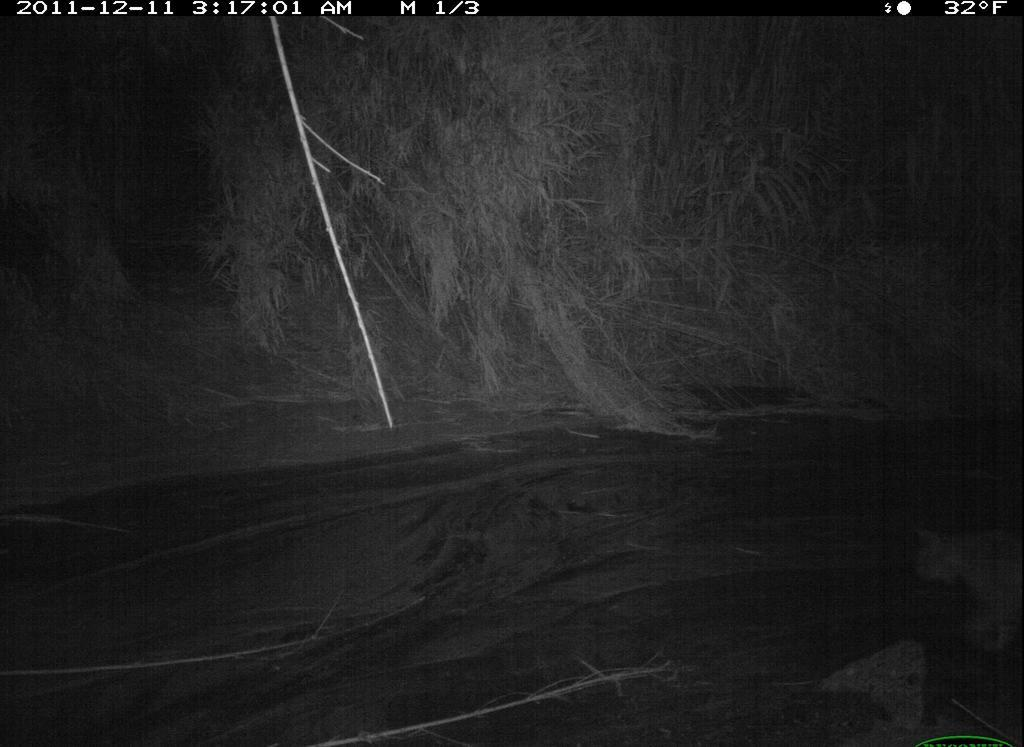bobcat: (897, 491, 1023, 667)
